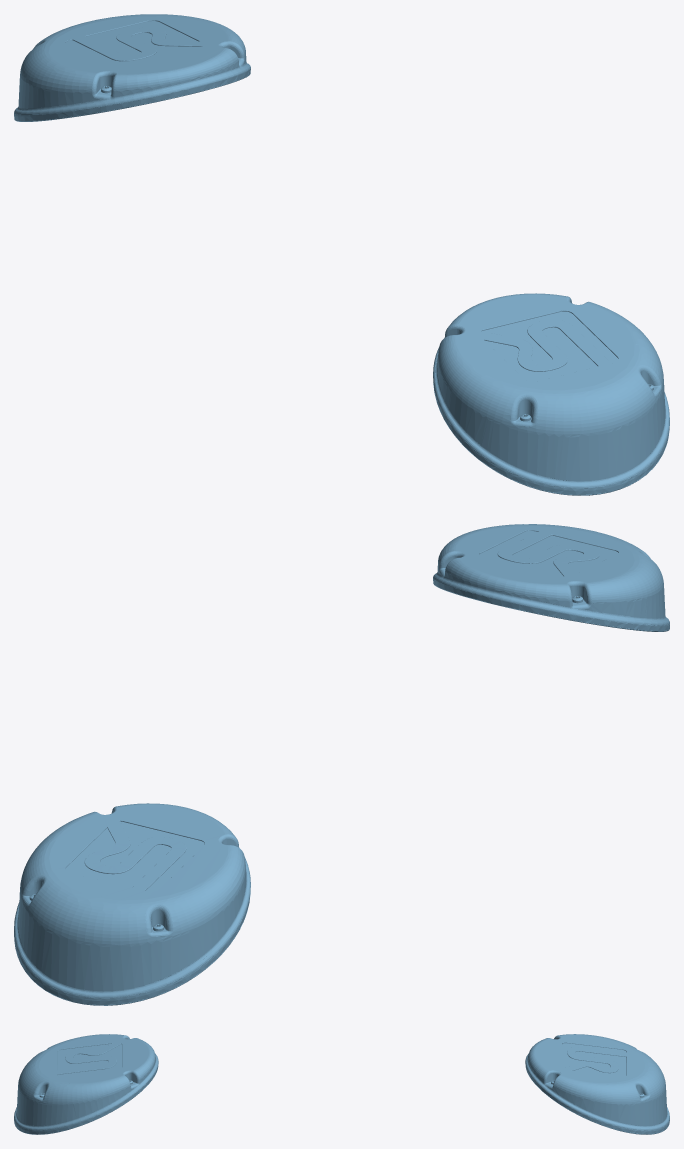
File: upperarm_3.obj
The picture shows the model from 3 angles, top to bottom: view 1: azimuth 30°, elevation 25°; view 2: azimuth 150°, elevation 25°; view 3: azimuth 270°, elevation 25°; orthographic projection. The views are drawn at different scales.
Size of the model in its own units: 0.1202 by 0.0633 by 0.5452.
